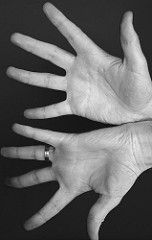palm: (57, 137, 137, 205), (72, 55, 141, 120)
